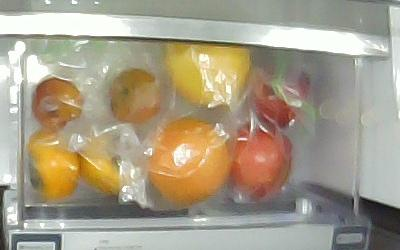apple_vinyl: (230, 123, 291, 202), (250, 64, 310, 128)
grapefruit_vinyl: (145, 116, 228, 205), (164, 43, 251, 108)
persimmon_vinyl: (78, 137, 138, 195), (29, 129, 78, 200)
prune_vinyl: (32, 76, 83, 130), (110, 69, 161, 123)
